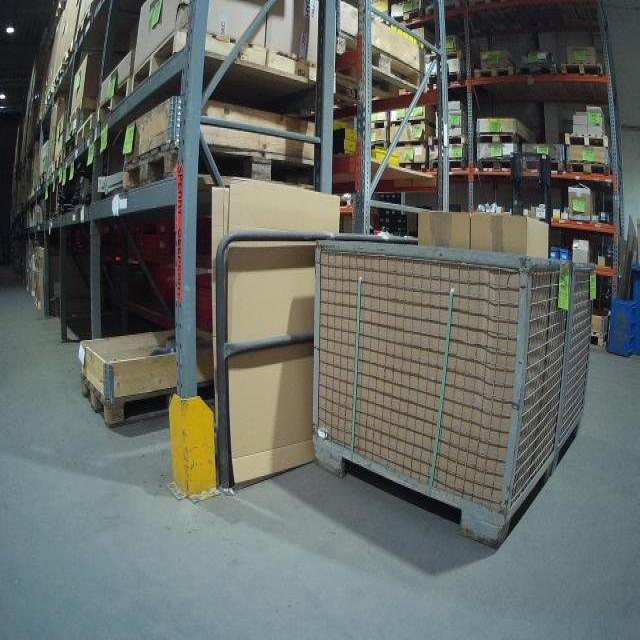pallet: (131, 25, 317, 95), (124, 139, 319, 197), (76, 372, 214, 430), (337, 31, 425, 107), (98, 74, 132, 127), (68, 92, 95, 123), (563, 131, 609, 147), (565, 160, 611, 175), (75, 3, 94, 39), (75, 113, 95, 147), (472, 63, 514, 79), (390, 116, 435, 130), (520, 159, 565, 173), (558, 61, 602, 75), (428, 133, 467, 148), (477, 131, 518, 145), (515, 62, 557, 75), (430, 156, 468, 170), (476, 156, 514, 170), (425, 0, 460, 15), (391, 9, 425, 24), (424, 49, 462, 62), (388, 137, 426, 149), (590, 331, 608, 351), (399, 159, 428, 170), (62, 41, 73, 69), (65, 136, 76, 160), (367, 119, 389, 130), (54, 149, 65, 170)
pallet_truck: (503, 137, 554, 231)
stillage: (310, 233, 599, 554)
